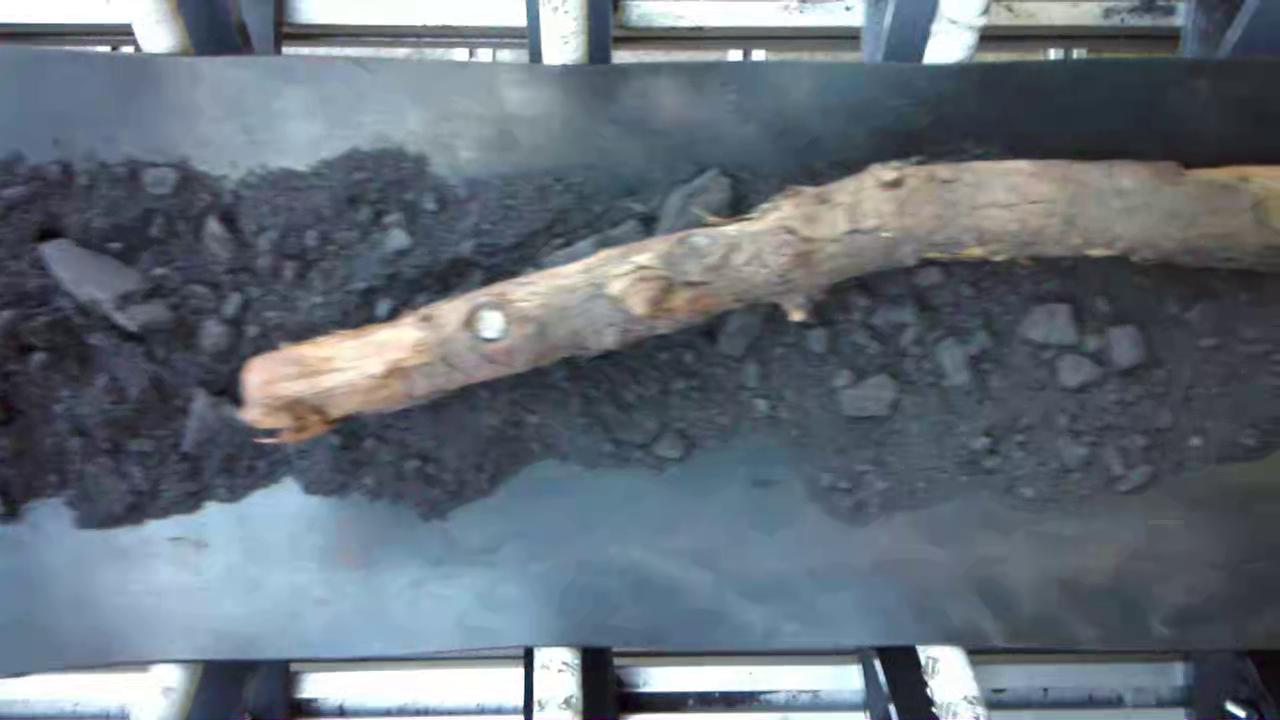conveyor: (3, 73, 1280, 641)
